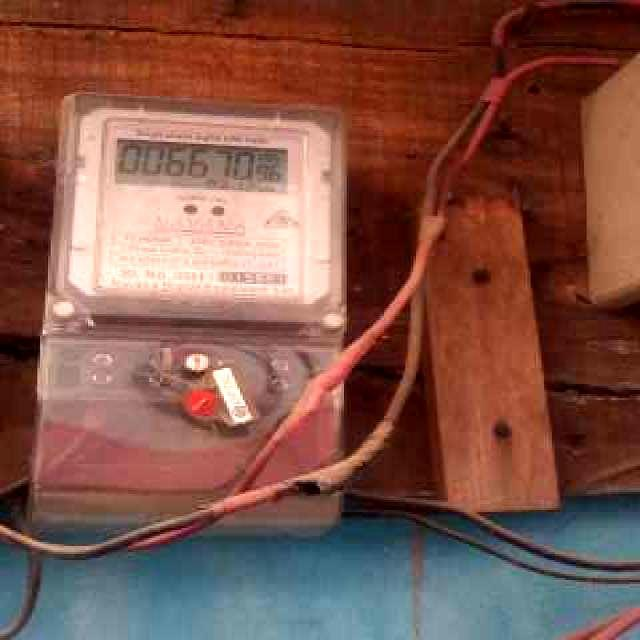LCD: (105, 133, 298, 196)
